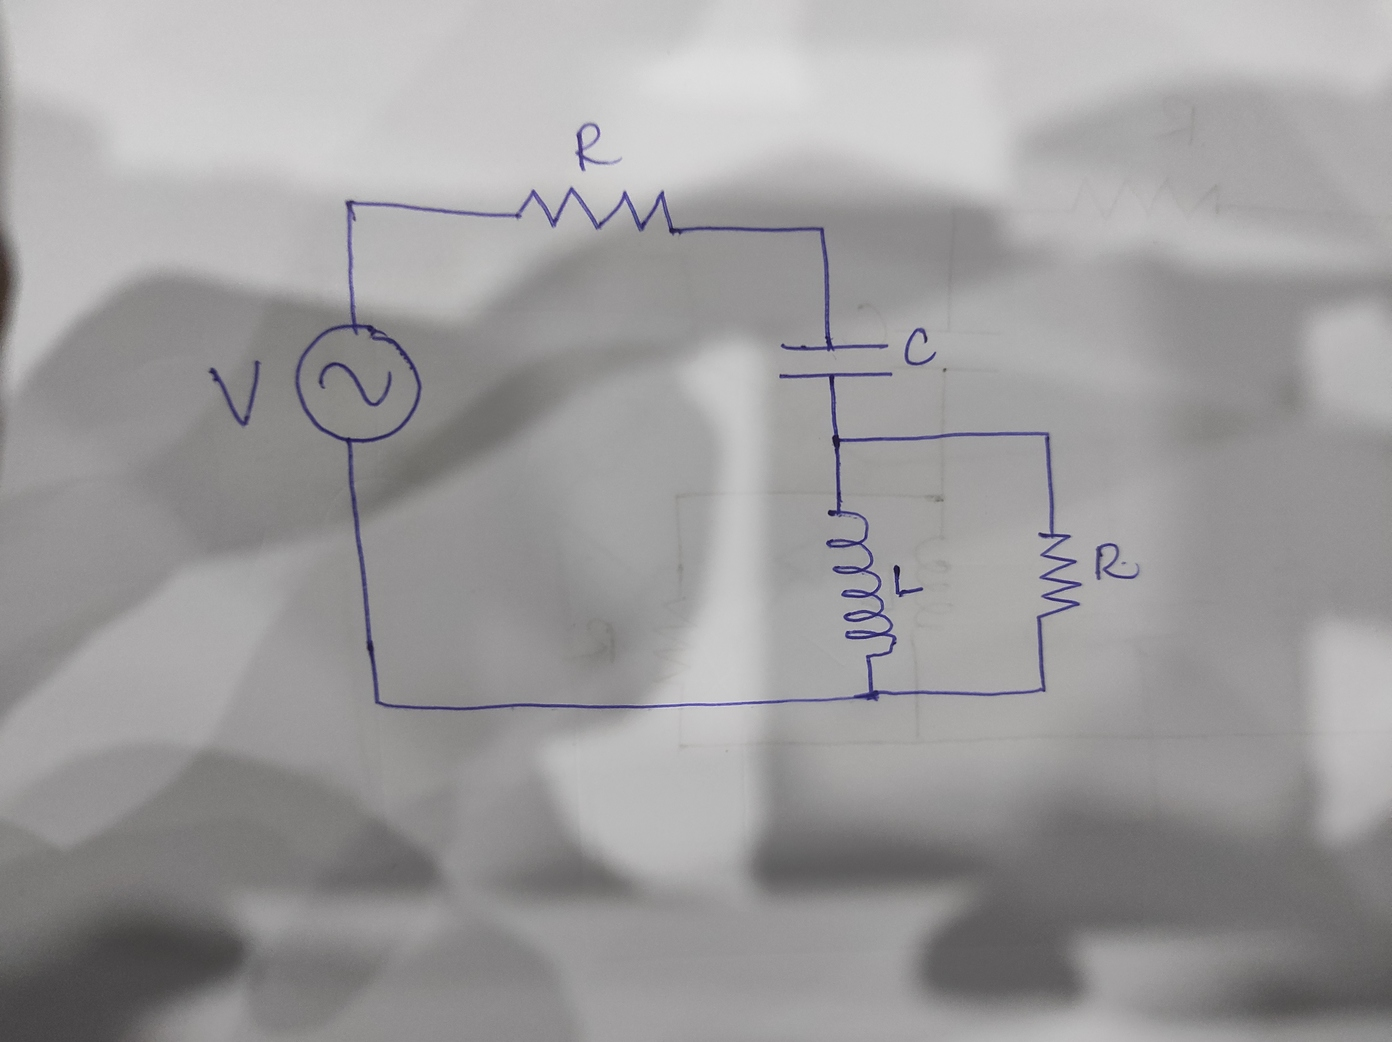capacitor.unpolarized: (772, 333, 897, 385)
inductor: (823, 505, 900, 664)
junction: (807, 217, 834, 242), (823, 426, 850, 451), (852, 684, 885, 705), (338, 192, 364, 217), (1036, 424, 1058, 444), (369, 690, 388, 711), (1031, 680, 1049, 698)
resistor: (510, 182, 682, 239), (1035, 524, 1082, 624)
text: (207, 356, 265, 430), (571, 120, 627, 175), (1091, 539, 1146, 584), (901, 327, 940, 371), (890, 561, 927, 598)
voltage.dc_ac: (290, 319, 424, 448)
